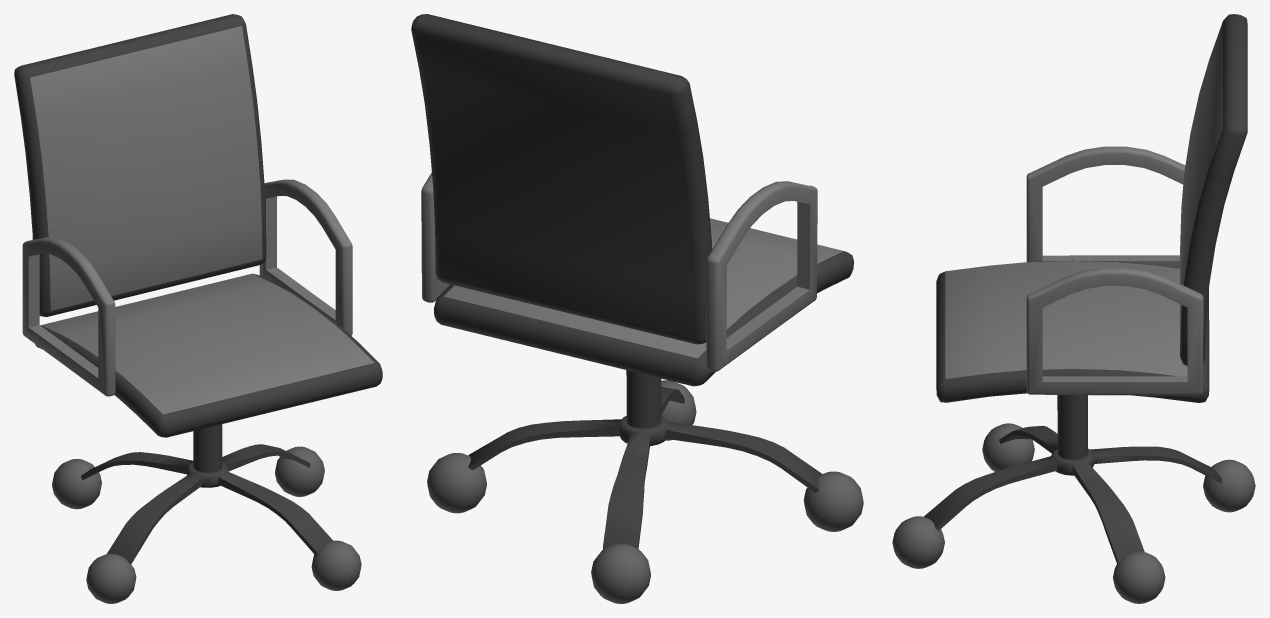
Rendered from Chair-4.fbx.
3 views of the same model, side by side, from view 1: azimuth 30°, elevation 25°; view 2: azimuth 150°, elevation 25°; view 3: azimuth 270°, elevation 25° (orthographic). The views are drawn at different scales.
Parts seen in each view (by area): view 1: Chair-4; view 2: Chair-4; view 3: Chair-4.
Part boxes in pixels (x1,y1,x2,y2): Chair-4: (14,14,382,603); Chair-4: (411,14,863,603); Chair-4: (892,14,1255,603).
Bounding box in the file's own units: 1.64 × 2.39 × 1.68.
